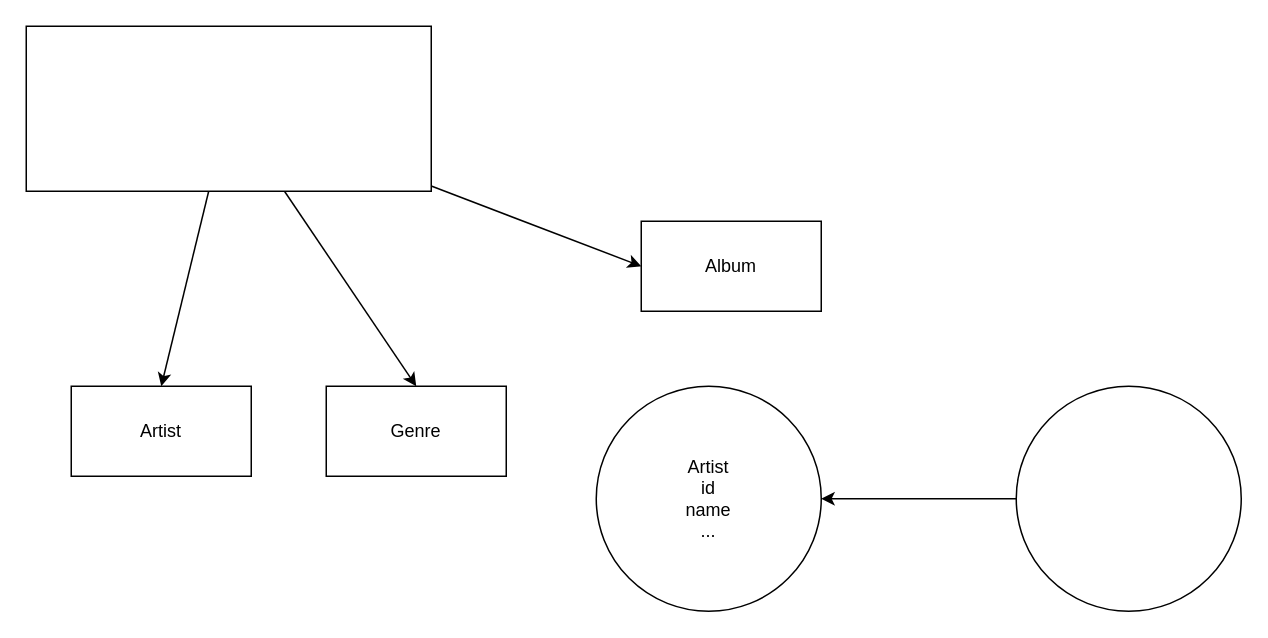
The diagram is 1268 pixels wide and 638 high, and some of its shapes have lost their labels. Here are the shapes that lost their labels. From the top down, the centre of each, then its label:
At (x=228, y=108): "Track Rating Len Count".
At (x=1128, y=498): "Album id title artist_id ...".
